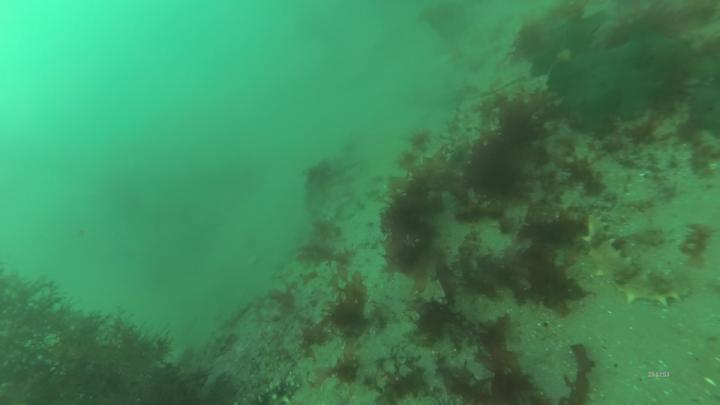holothurian: (584, 210, 695, 310)
waterweeds: (336, 4, 715, 400), (1, 276, 205, 405)
